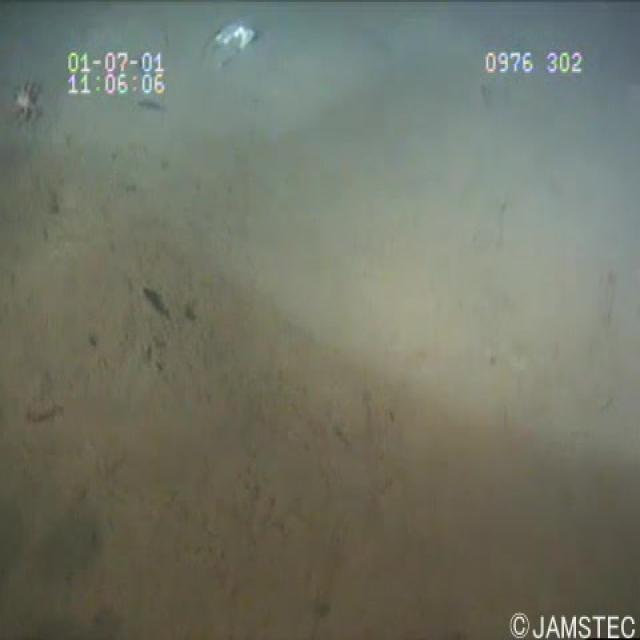plastic: (194, 11, 262, 73)
